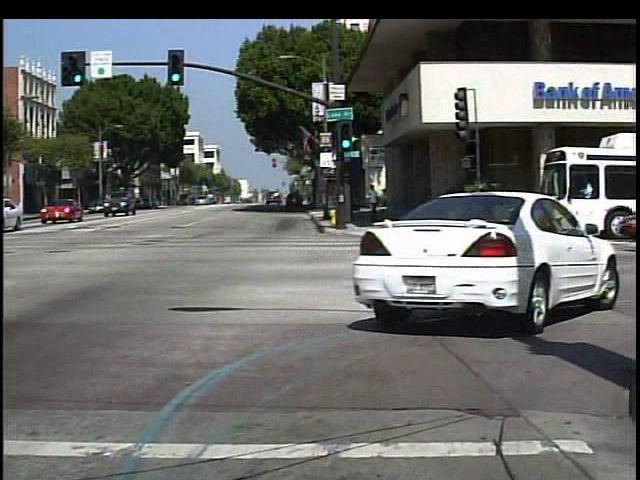person: (364, 182, 385, 224)
